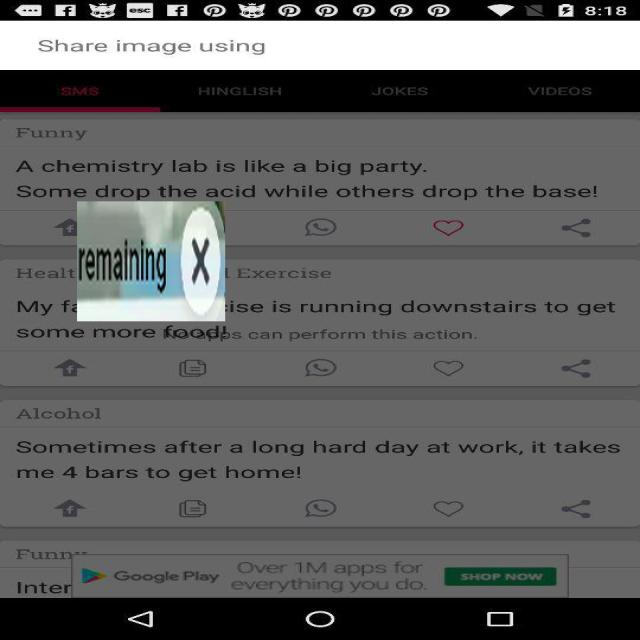misdirection: (77, 202, 225, 322)
